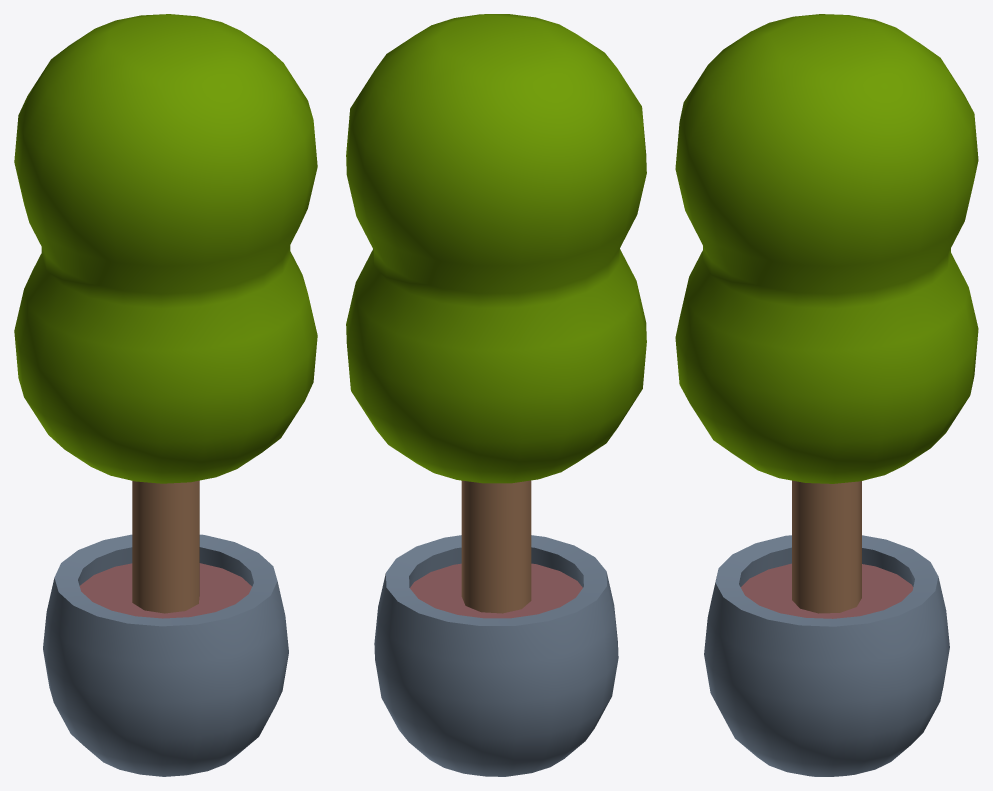
Rendered from plant2.glb.
3 views of the same model, side by side, from view 1: azimuth 30°, elevation 25°; view 2: azimuth 150°, elevation 25°; view 3: azimuth 270°, elevation 25° (orthographic).
Visible parts, largest first — view 1: Decoration_Plant2; view 2: Decoration_Plant2; view 3: Decoration_Plant2.
Part boxes in pixels (box(x1,y1,x2,y2)): Decoration_Plant2: box(14, 14, 317, 776); Decoration_Plant2: box(346, 14, 646, 776); Decoration_Plant2: box(675, 14, 978, 776).
Size of the model in its own units: 0.6965 by 1.82 by 0.6965.
